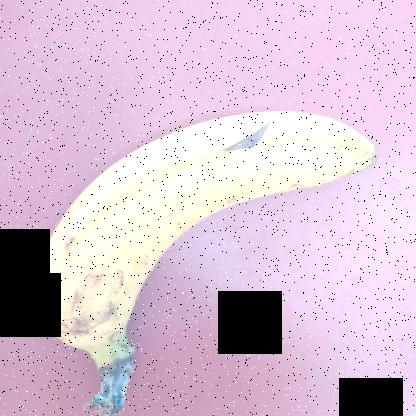ripe: (21, 109, 378, 357)
